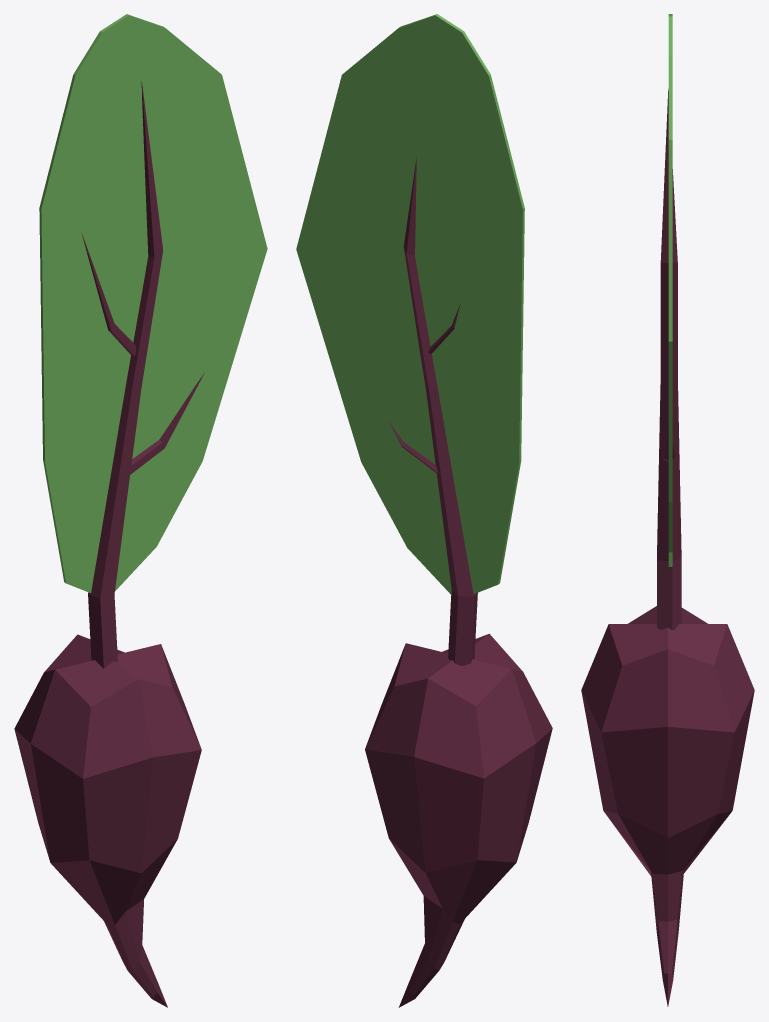
File: Beet_2-optimized.glb
The picture shows the model from 3 angles, left to right: view 1: azimuth 30°, elevation 25°; view 2: azimuth 150°, elevation 25°; view 3: azimuth 270°, elevation 25°; orthographic projection. The views are drawn at different scales.
Parts seen in each view (by area): view 1: Beet_2; view 2: Beet_2; view 3: Beet_2.
Boxes of the visible parts, x1=… form: Beet_2: x1=14, y1=14, x2=267, y2=1007; Beet_2: x1=296, y1=14, x2=552, y2=1007; Beet_2: x1=581, y1=14, x2=754, y2=1006.
Size of the model in its own units: 0.2131 by 0.8597 by 0.1389.
